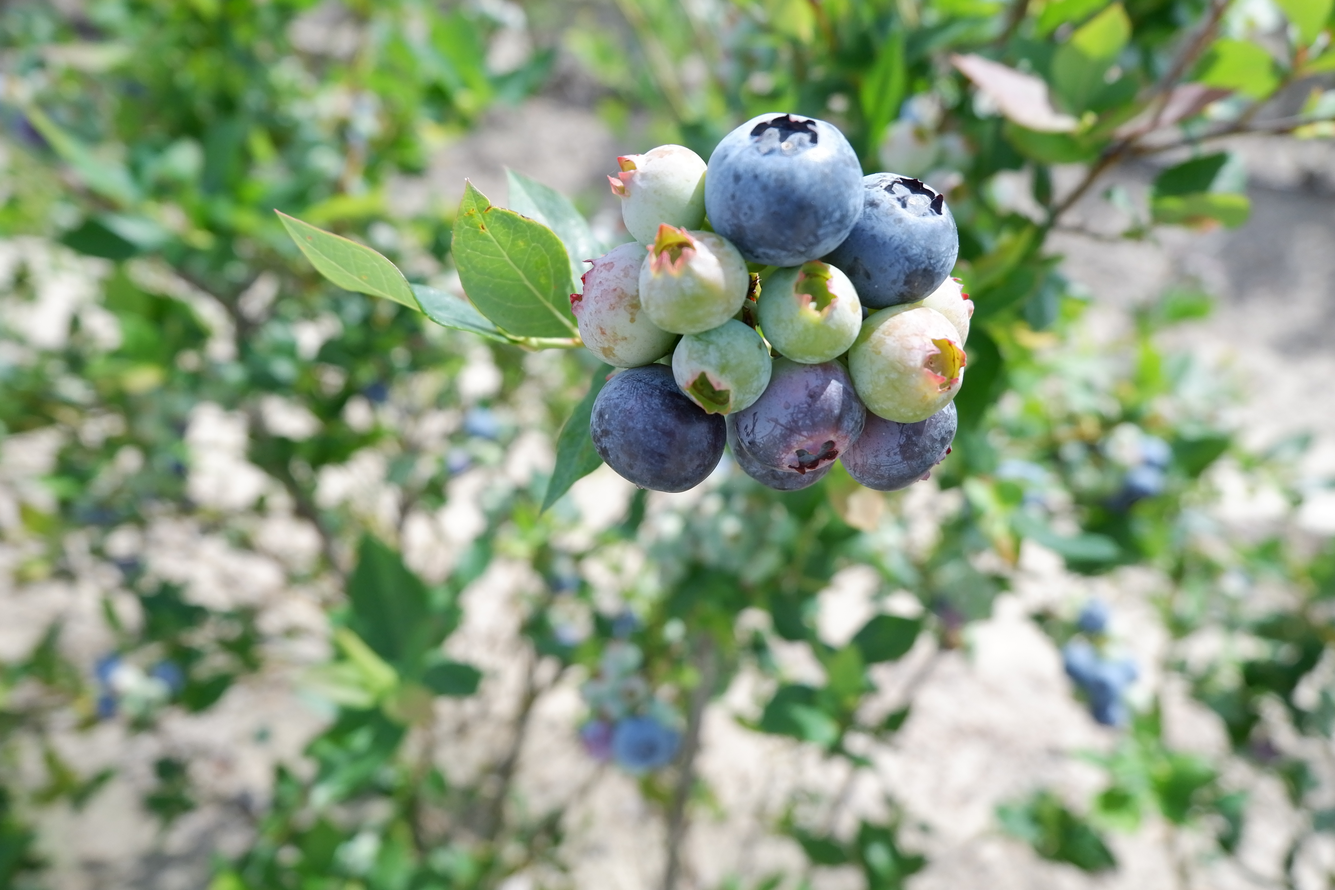Immature: (573, 246, 674, 365), (849, 310, 962, 416), (642, 229, 747, 331), (760, 264, 860, 359), (611, 148, 706, 243), (726, 415, 837, 492), (676, 321, 769, 412), (909, 279, 972, 339)
Mature: (705, 115, 860, 262), (832, 174, 958, 304), (594, 365, 725, 490), (734, 358, 860, 475), (844, 402, 957, 487)
